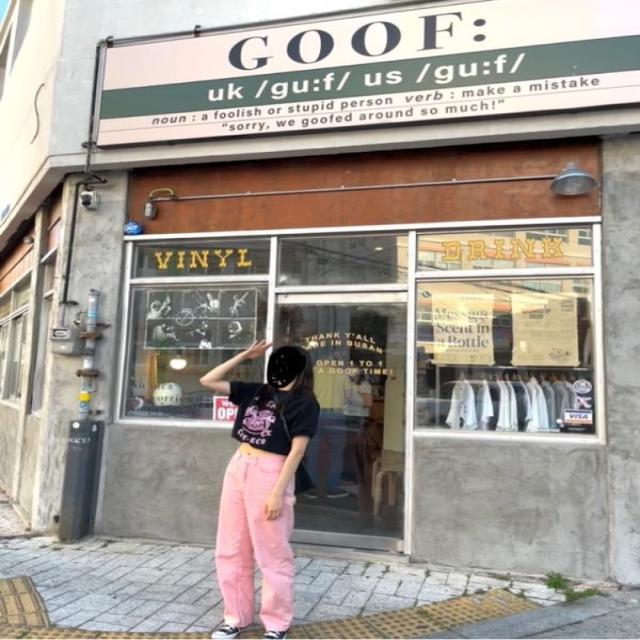cottonpants: (216, 437, 300, 631)
shortsleeve: (225, 380, 319, 454)
